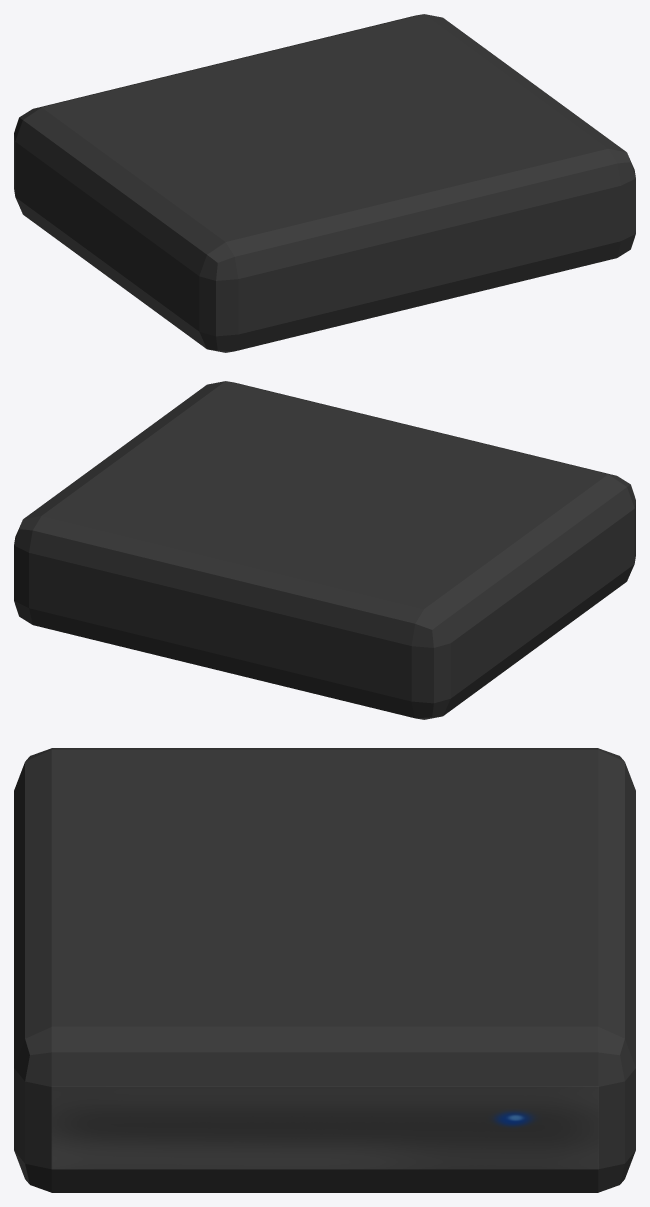
The model's file is smartbox.fbx.
The picture shows the model from 3 angles, top to bottom: view 1: azimuth 30°, elevation 25°; view 2: azimuth 150°, elevation 25°; view 3: azimuth 270°, elevation 25°; orthographic projection. The views are drawn at different scales.
Parts seen in each view (by area): view 1: smartbox_mesh; view 2: smartbox_mesh; view 3: smartbox_mesh.
Boxes of the visible parts, x1,y1,x2,y2 form: smartbox_mesh: (14,14,635,352); smartbox_mesh: (14,381,635,719); smartbox_mesh: (14,748,635,1192).
Bounding box in the file's own units: 3.01 × 0.7322 × 2.51.
Materials: 1 (1 with a texture image).
